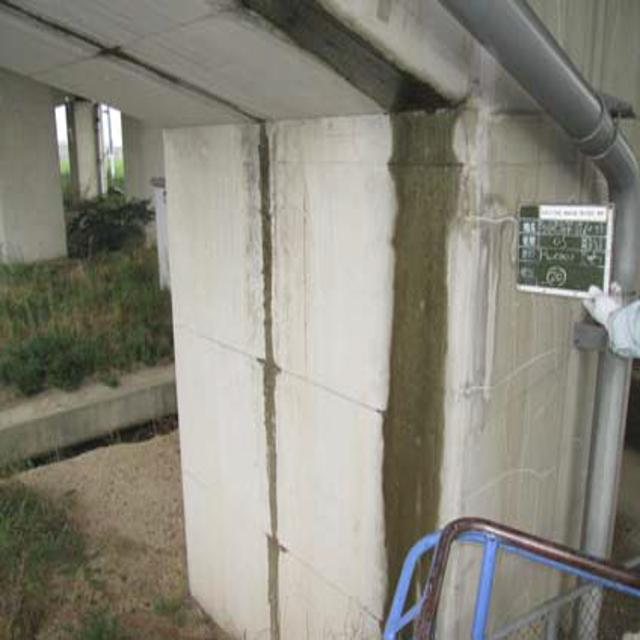leakage: (373, 104, 453, 623), (237, 130, 300, 640)
